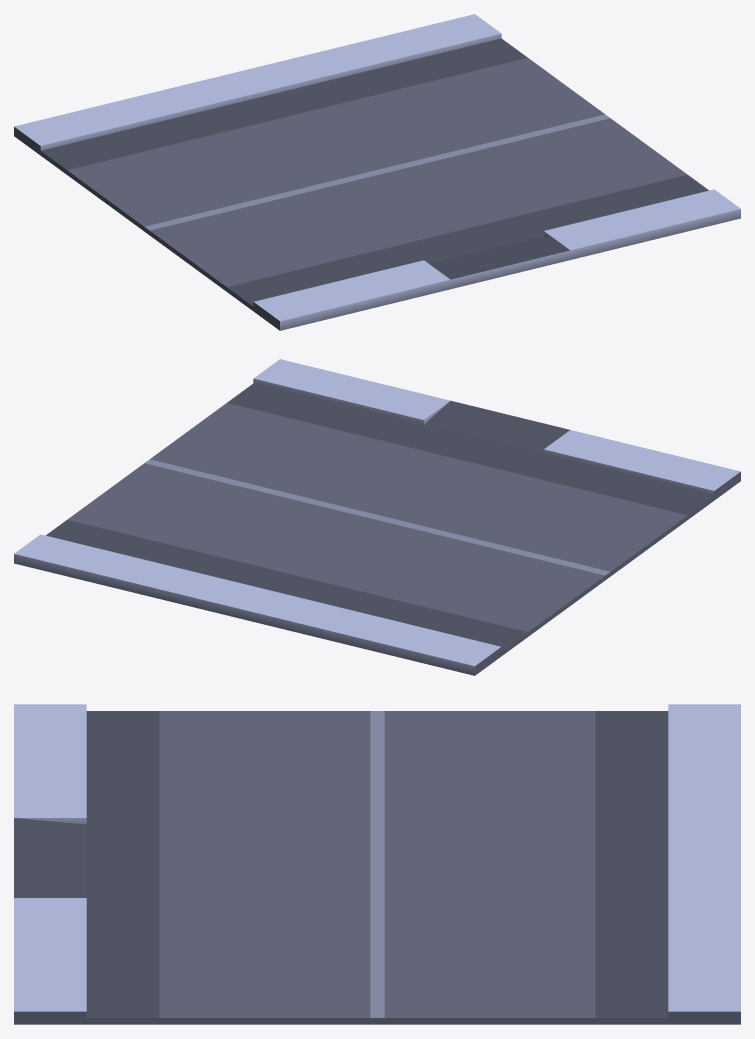
The model's file is road-driveway-single.glb.
3 renders of one model, top to bottom at view 1: azimuth 30°, elevation 25°; view 2: azimuth 150°, elevation 25°; view 3: azimuth 270°, elevation 25°, orthographic. The views are drawn at different scales.
Parts seen in each view (by area): view 1: road-driveway-single; view 2: road-driveway-single; view 3: road-driveway-single.
Boxes of the visible parts, left/top/right/bottom form: road-driveway-single: left=14, top=14, right=740, bottom=330; road-driveway-single: left=14, top=359, right=740, bottom=675; road-driveway-single: left=14, top=704, right=740, bottom=1024.
Bounding box in the file's own units: 1 × 0.02 × 1.
1 material, 1 textured.
